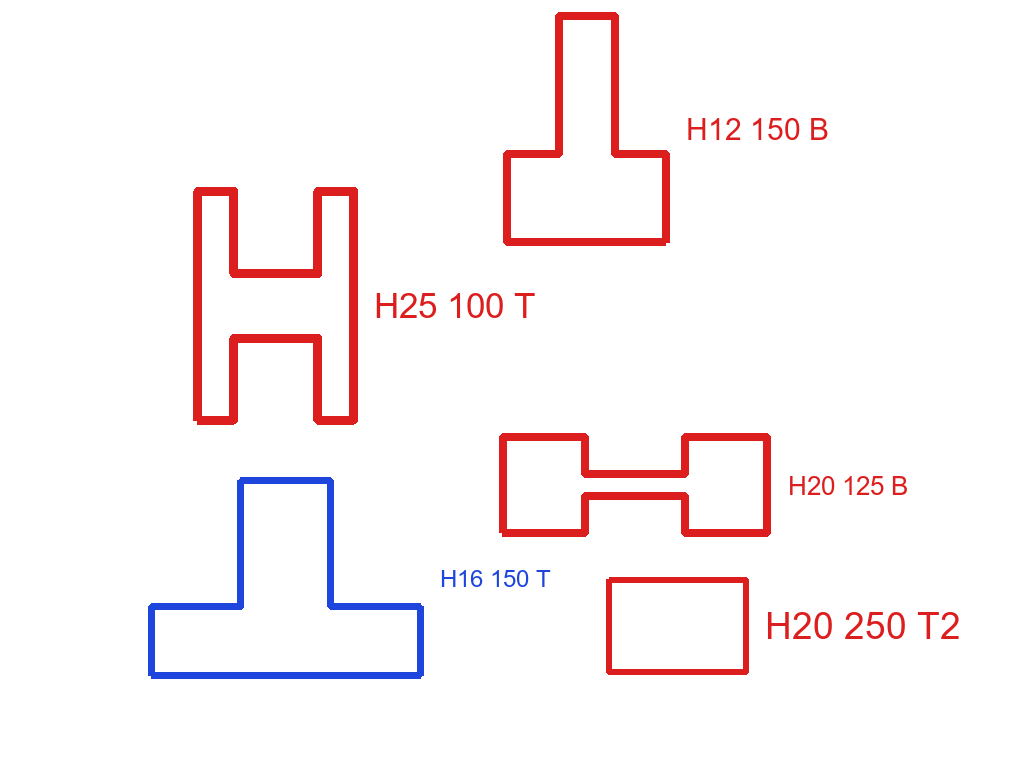shape: (146, 475, 426, 681), (191, 185, 360, 427), (502, 9, 672, 249), (497, 432, 774, 539), (605, 574, 750, 677)
text: (763, 610, 963, 641), (372, 291, 537, 320), (684, 116, 831, 142), (786, 474, 910, 497), (438, 568, 553, 589)
